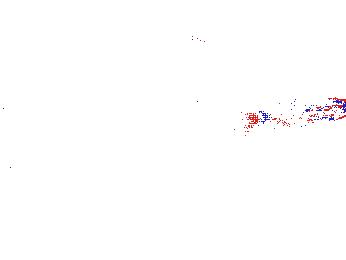red belly glassfish: (188, 31, 220, 46)
redtail glassfish: (239, 95, 346, 137)
